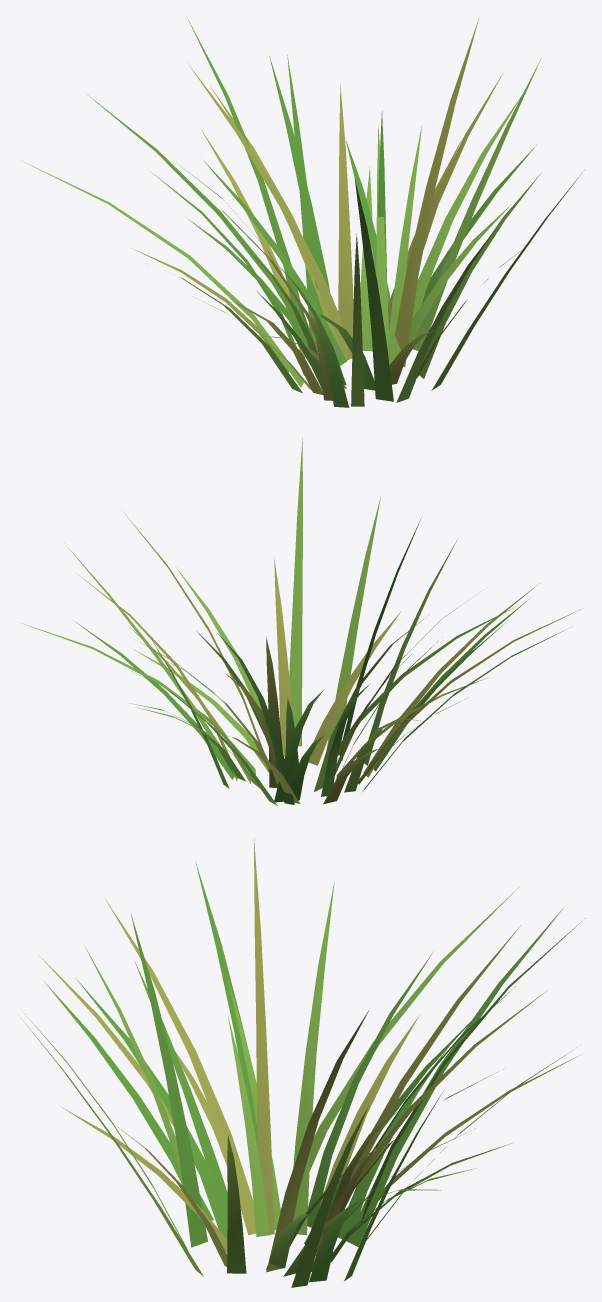
The model's file is grass-tall-b.glb.
3 views of the same model, one above another, from view 1: azimuth 30°, elevation 25°; view 2: azimuth 150°, elevation 25°; view 3: azimuth 270°, elevation 25° (orthographic). The views are drawn at different scales.
Visible parts, largest first — view 1: grass-tall-b; view 2: grass-tall-b; view 3: grass-tall-b.
Boxes of the visible parts, x1=… form: grass-tall-b: x1=20, y1=16, x2=582, y2=407; grass-tall-b: x1=21, y1=437, x2=582, y2=805; grass-tall-b: x1=20, y1=838, x2=585, y2=1287.
Bounding box in the file's own units: 0.8679 × 0.471 × 0.7368.
